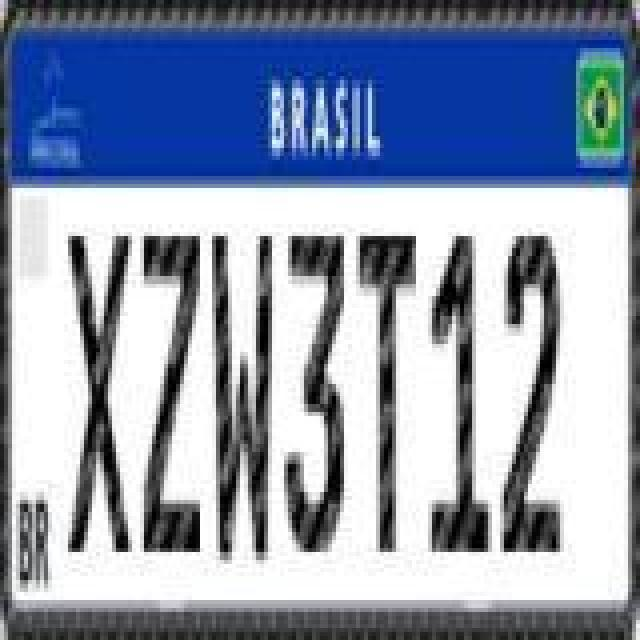1: (426, 228, 494, 564)
2: (500, 226, 564, 558)
3: (280, 226, 344, 558)
T: (352, 226, 416, 558)
W: (210, 230, 278, 570)
X: (66, 228, 134, 556)
Z: (136, 232, 200, 560)
